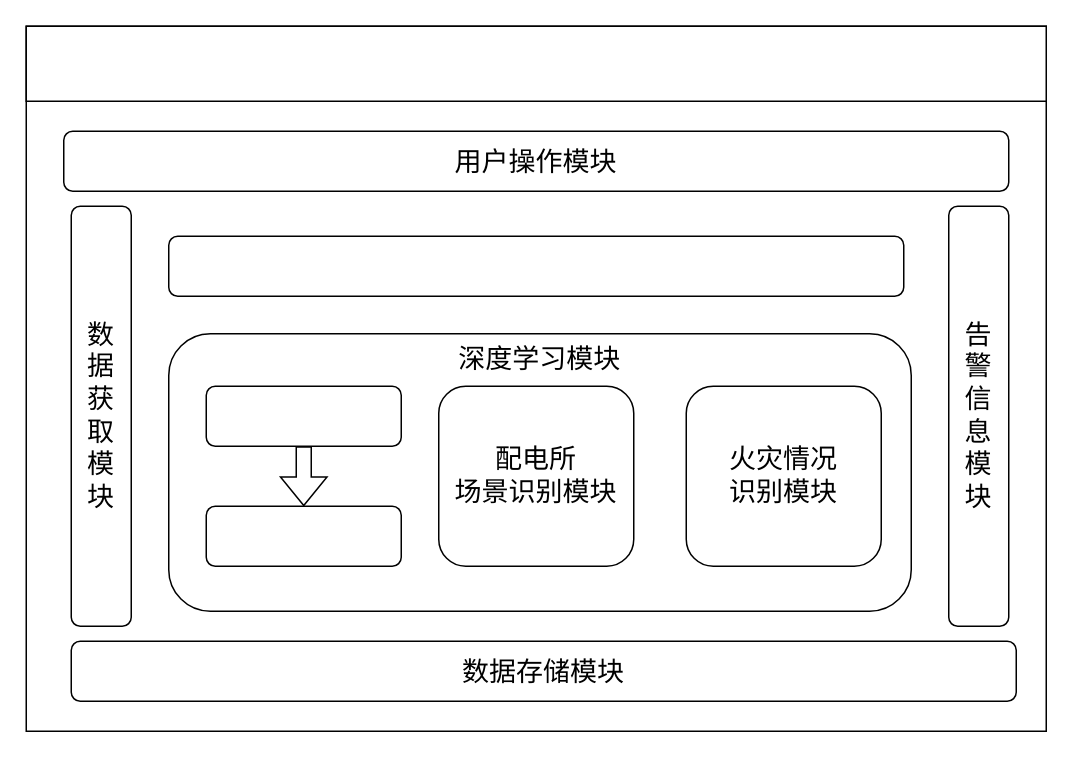
Some shapes in this 1073 by 758 pixel diagram are drawn without their labels. The centre of each missing label's shape, as x and y in pixels:
"图片分割模块" belongs at [303,415].
"基于深度学习的用电安全管理类隐患分析系统" belongs at [535,63].
"数据访问模块" belongs at [535,265].
"设备状态 识别模块" belongs at [303,535].
